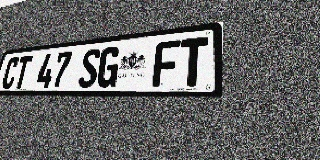4: (35, 53, 57, 88)
7: (50, 51, 73, 88)
C: (0, 57, 20, 89)
F: (152, 40, 180, 87)
G: (96, 46, 121, 87)
S: (77, 48, 102, 88)
T: (178, 37, 208, 86), (12, 55, 33, 89)
